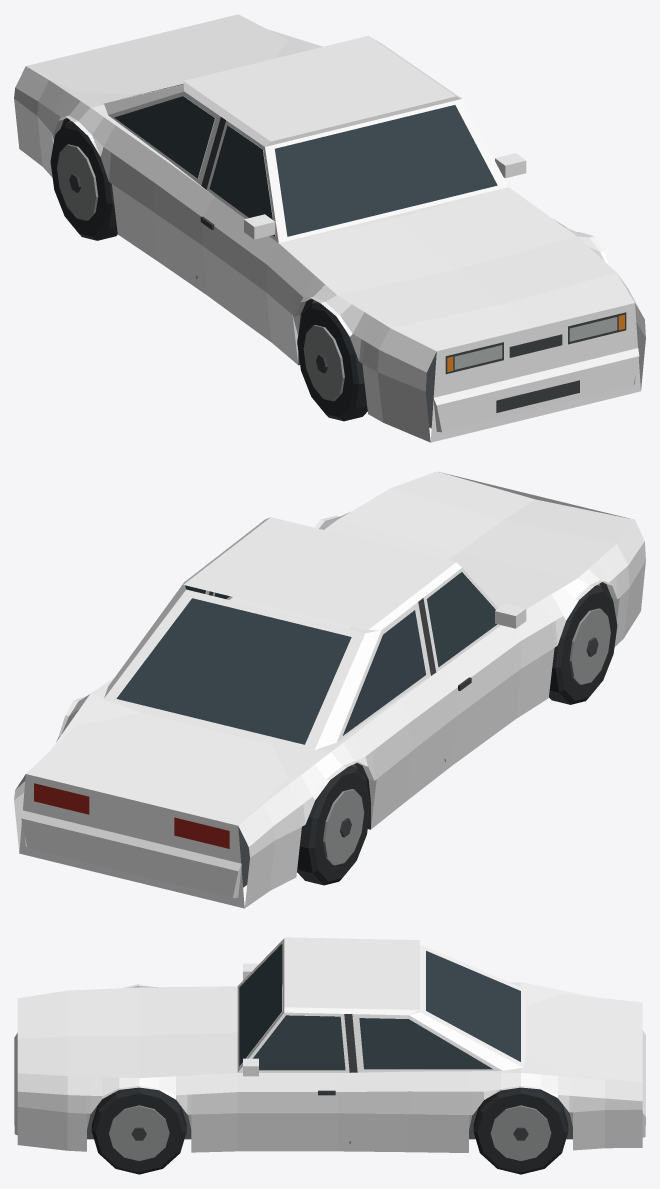
Rendered from hayase_hisui.glb.
3 views of the same model, one above another, from view 1: azimuth 30°, elevation 25°; view 2: azimuth 150°, elevation 25°; view 3: azimuth 270°, elevation 25° (orthographic). The views are drawn at different scales.
Parts seen in each view (by area): view 1: hayase_hisui; view 2: hayase_hisui; view 3: hayase_hisui.
Part boxes in pixels (box(x1,y1,x2,y2)): hayase_hisui: box(14, 14, 645, 442); hayase_hisui: box(14, 471, 645, 908); hayase_hisui: box(14, 937, 645, 1174).
Size of the model in its own units: 1.82 by 1.26 by 4.7.
Materials: 8 (1 with a texture image).
